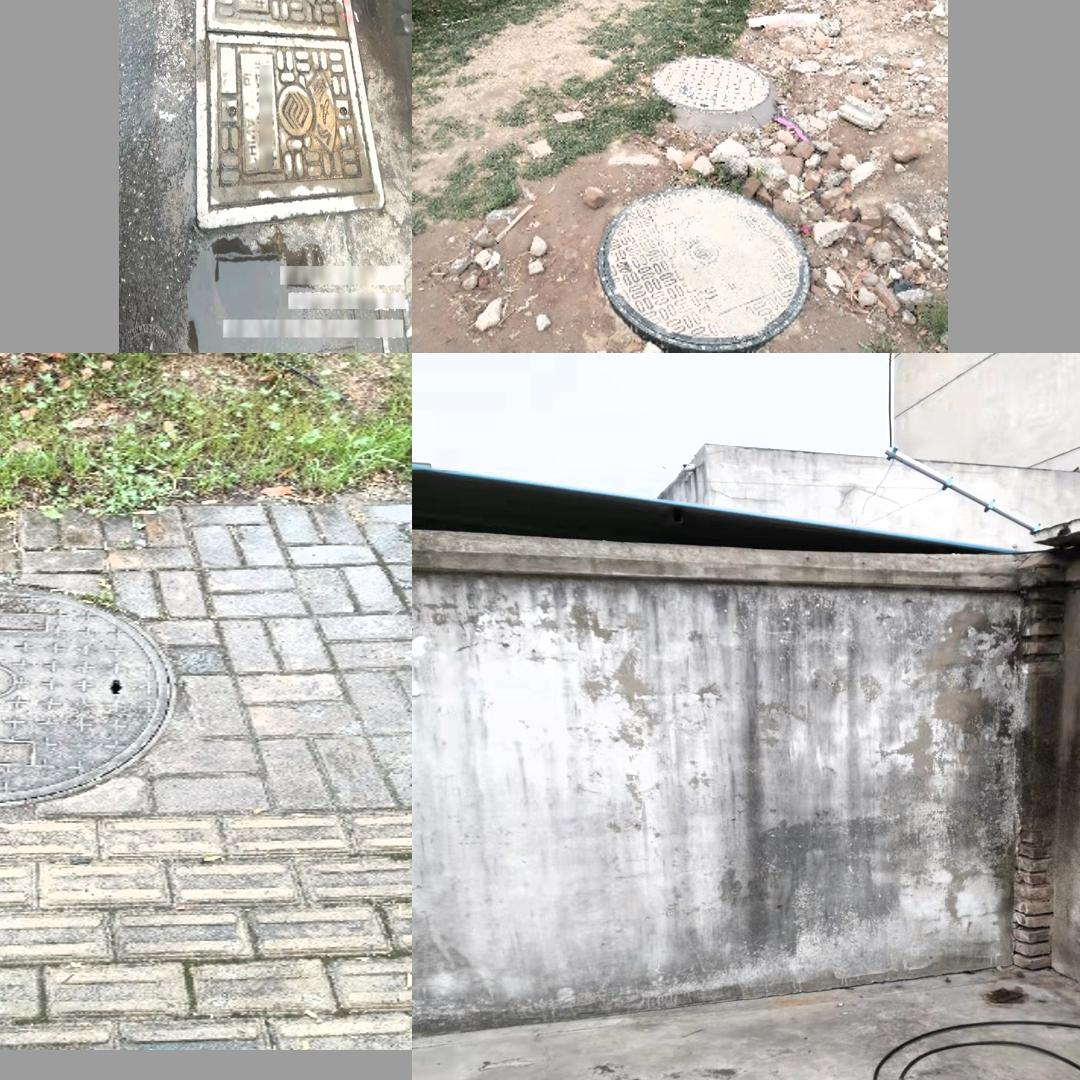good: (193, 0, 385, 231), (0, 586, 173, 804), (598, 185, 809, 353), (647, 54, 770, 112)
